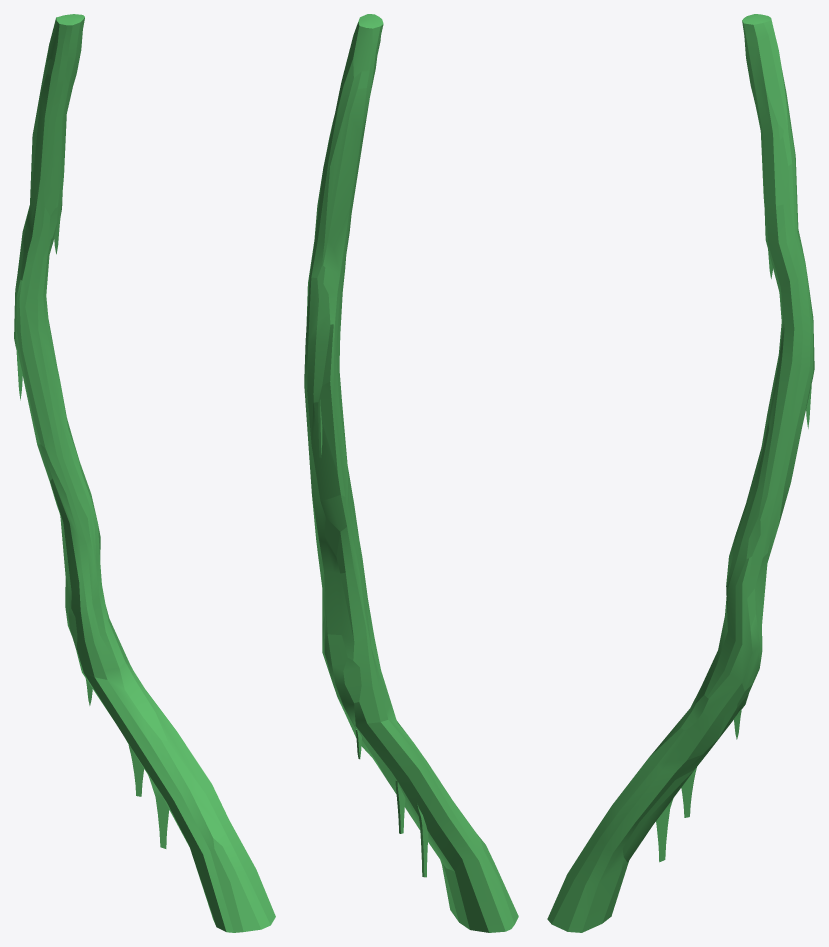
Rendered from jungle_trunk_D.fbx.
3 views of the same model, side by side, from view 1: azimuth 90°, elevation 25°; view 2: azimuth 150°, elevation 25°; view 3: azimuth 270°, elevation 25° (orthographic). The views are drawn at different scales.
Visible parts, largest first — view 1: jungle_trunk_D, jungle_trunk_D_liana_A; view 2: jungle_trunk_D; view 3: jungle_trunk_D.
Part boxes in pixels (<box>): jungle_trunk_D: <box>14,14,275,932</box>; jungle_trunk_D_liana_A: <box>148,775,169,848</box>; jungle_trunk_D: <box>304,14,518,932</box>; jungle_trunk_D: <box>547,14,814,932</box>.
Bounding box in the file's own units: 119 × 1022 × 272.
